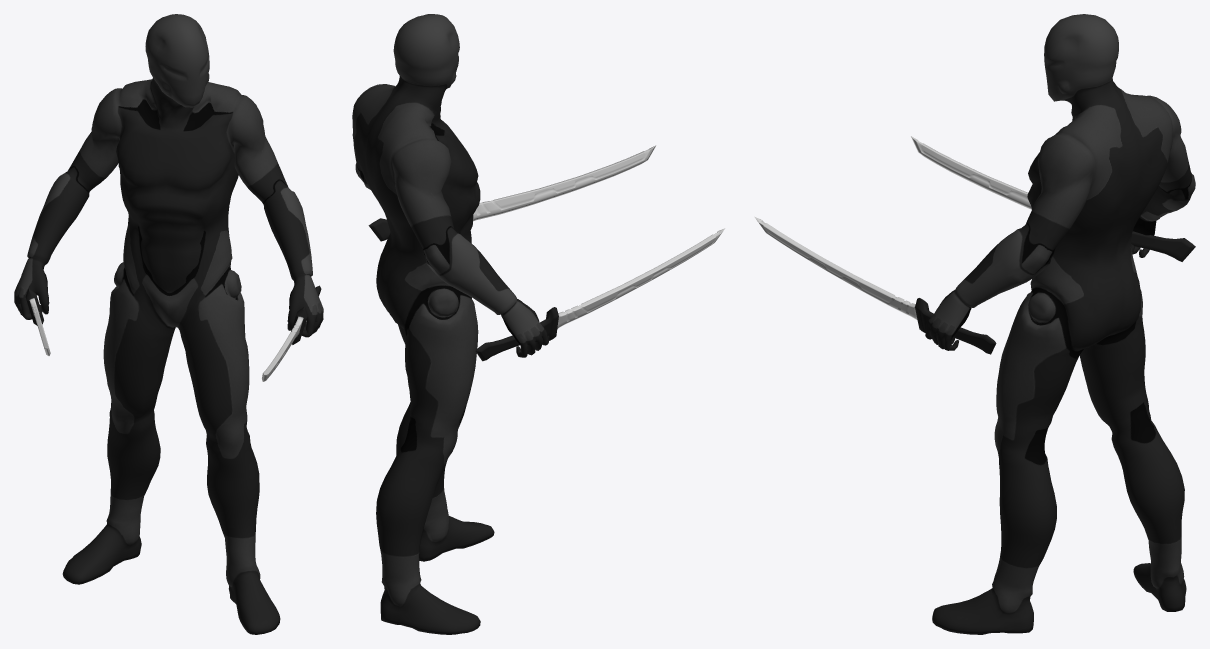
3 renders of one model, left to right at view 1: azimuth 30°, elevation 25°; view 2: azimuth 150°, elevation 25°; view 3: azimuth 270°, elevation 25°, orthographic. The views are drawn at different scales.
Parts seen in each view (by area): view 1: Cyborg_Ninja_Killer, Sword_l, Sword_l001; view 2: Cyborg_Ninja_Killer, Sword_l001, Sword_l; view 3: Cyborg_Ninja_Killer, Sword_l, Sword_l001.
Part boxes in pixels (x1=…): Cyborg_Ninja_Killer: x1=14, y1=14, x2=323, y2=634; Sword_l: x1=262, y1=285, x2=321, y2=381; Sword_l001: x1=21, y1=274, x2=50, y2=355; Cyborg_Ninja_Killer: x1=352, y1=14, x2=548, y2=634; Sword_l001: x1=475, y1=228, x2=725, y2=361; Sword_l: x1=368, y1=145, x2=656, y2=241; Cyborg_Ninja_Killer: x1=925, y1=14, x2=1195, y2=634; Sword_l: x1=754, y1=216, x2=996, y2=354; Sword_l001: x1=911, y1=136, x2=1195, y2=261.
Size of the model in its own units: 106 by 182 by 123.
Materials: 2 (2 with a texture image).
